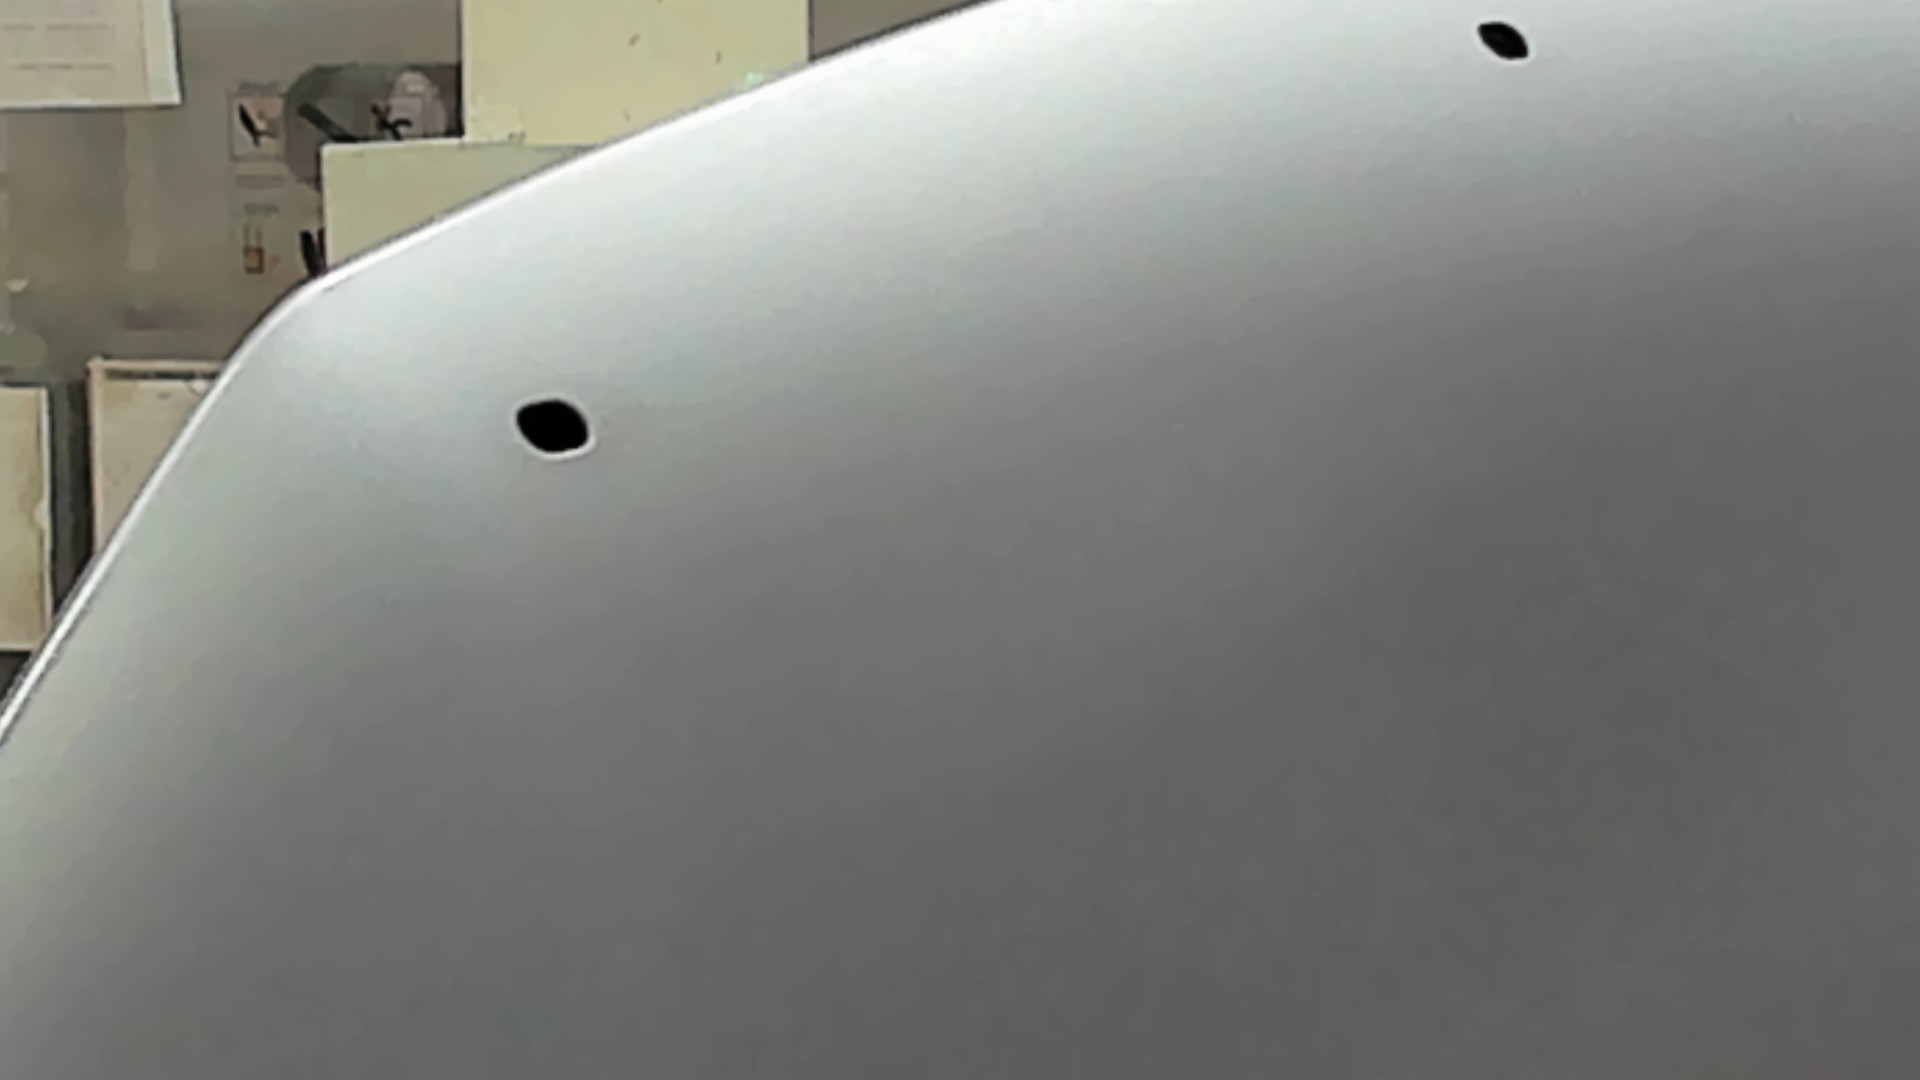chico: (506, 388, 607, 467), (1464, 11, 1539, 78)
